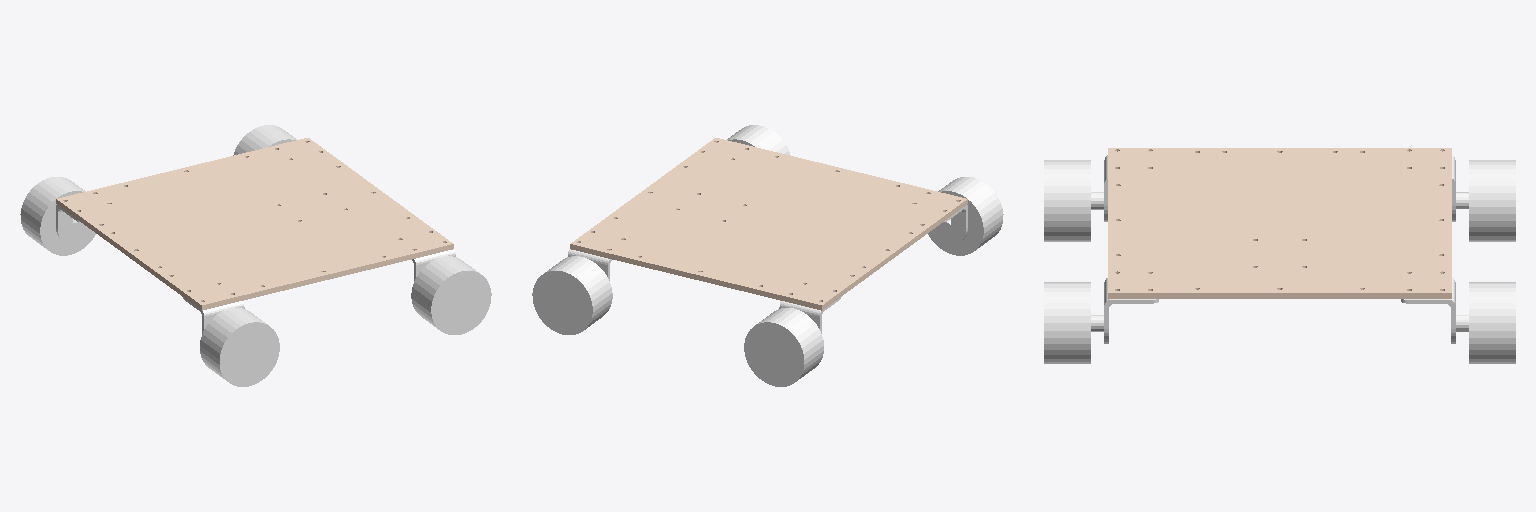
robot.urdf — car_model:
<?xml version="1.0" encoding="utf-8"?>
<!-- This URDF was automatically created by SolidWorks to URDF Exporter! Originally created by [author] ([email redacted]) 
     Commit Version: 1.6.0-4-g7f85cfe  Build Version: 1.6.7995.38578
     For more information, please see http://wiki.ros.org/sw_urdf_exporter -->
<robot
  name="car_model">
  <link name="base_footprint">
  </link>
  <link
    name="car_link">
    <inertial>
      <origin
        xyz="1.3878E-17 2.7756E-17 0.0025"
        rpy="0 0 0" />
      <mass
        value="0.31036" />
      <inertia
        ixx="0.0016104"
        ixy="1.4988E-19"
        ixz="8.5178E-21"
        iyy="0.0016081"
        iyz="1.348E-21"
        izz="0.0032173" />
    </inertial>
    <visual>
      <origin
        xyz="0 0 0"
        rpy="0 0 0" />
      <geometry>
        <mesh
          filename="package://car_model/meshes/car_link.STL" />
      </geometry>
      <material
        name="">
        <color
          rgba="1 0.9098 0.83137 1" />
      </material>
    </visual>
    <collision>
      <origin
        xyz="0 0 0"
        rpy="0 0 0" />
      <geometry>
        <mesh
          filename="package://car_model/meshes/car_link.STL" />
      </geometry>
    </collision>
  </link>
  <joint name="base_footprint" type="fixed">
    <parent link="base_footprint"/>
    <child link="car_link"/>
  </joint>
  <link
    name="LF_Hub_link">
    <inertial>
      <origin
        xyz="-1.0059E-05 0.0082366 -0.0071873"
        rpy="0 0 0" />
      <mass
        value="0.0084323" />
      <inertia
        ixx="2.5589E-06"
        ixy="-8.2589E-10"
        ixz="7.3689E-10"
        iyy="2.3651E-06"
        iyz="7.504E-07"
        izz="2.4214E-06" />
    </inertial>
    <visual>
      <origin
        xyz="0 0 0"
        rpy="0 0 0" />
      <geometry>
        <mesh
          filename="package://car_model/meshes/LF_Hub_link.STL" />
      </geometry>
      <material
        name="">
        <color
          rgba="1 1 1 1" />
      </material>
    </visual>
    <collision>
      <origin
        xyz="0 0 0"
        rpy="0 0 0" />
      <geometry>
        <mesh
          filename="package://car_model/meshes/LF_Hub_link.STL" />
      </geometry>
    </collision>
  </link>
  <joint
    name="car2LF_Hub"
    type="fixed">
    <origin
      xyz="0.106 0.1075 -0.003"
      rpy="0 0 0" />
    <parent
      link="car_link" />
    <child
      link="LF_Hub_link" />
    <axis
      xyz="0 0 0" />
  </joint>
  <link
    name="LF_Wheel_link">
    <inertial>
      <origin
        xyz="0 0.0291348289900235 6.93889390390723E-18"
        rpy="0 0 0" />
      <mass
        value="0.0976667159877332" />
      <inertia
        ixx="3.17417948796353E-05"
        ixy="-9.14387225326459E-22"
        ixz="-2.80586556949772E-22"
        iyy="4.32896914021948E-05"
        iyz="-1.16131060268526E-21"
        izz="3.17417948796353E-05" />
    </inertial>
    <visual>
      <origin
        xyz="0 0 0"
        rpy="0 0 0" />
      <geometry>
        <mesh
          filename="package://car_model/meshes/LF_Wheel_link.STL" />
      </geometry>
      <material
        name="">
        <color
          rgba="1 1 1 1" />
      </material>
    </visual>
    <collision>
      <origin
        xyz="0 0 0"
        rpy="0 0 0" />
      <geometry>
        <mesh
          filename="package://car_model/meshes/LF_Wheel_link.STL" />
      </geometry>
    </collision>
  </link>
  <joint
    name="LF_Hub2LF_Wheel"
    type="continuous">
    <origin
      xyz="0 0.0169999999999998 -0.025"
      rpy="0 0 0" />
    <parent
      link="LF_Hub_link" />
    <child
      link="LF_Wheel_link" />
    <axis
      xyz="0 1 0" />
  </joint>
  <link
    name="RF_Hub_link">
    <inertial>
      <origin
        xyz="1.0059E-05 -0.0082366 -0.0071873"
        rpy="0 0 0" />
      <mass
        value="0.0084323" />
      <inertia
        ixx="2.5589E-06"
        ixy="-8.2589E-10"
        ixz="-7.3689E-10"
        iyy="2.3651E-06"
        iyz="-7.504E-07"
        izz="2.4214E-06" />
    </inertial>
    <visual>
      <origin
        xyz="0 0 0"
        rpy="0 0 0" />
      <geometry>
        <mesh
          filename="package://car_model/meshes/RF_Hub_link.STL" />
      </geometry>
      <material
        name="">
        <color
          rgba="1 1 1 1" />
      </material>
    </visual>
    <collision>
      <origin
        xyz="0 0 0"
        rpy="0 0 0" />
      <geometry>
        <mesh
          filename="package://car_model/meshes/RF_Hub_link.STL" />
      </geometry>
    </collision>
  </link>
  <joint
    name="car2RF_Hub"
    type="fixed">
    <origin
      xyz="0.106 -0.1075 -0.003"
      rpy="0 0 0" />
    <parent
      link="car_link" />
    <child
      link="RF_Hub_link" />
    <axis
      xyz="0 0 0" />
  </joint>
  <link
    name="RF_Wheel_link">
    <inertial>
      <origin
        xyz="0 -0.0291348289900234 0"
        rpy="0 0 0" />
      <mass
        value="0.0976667159877333" />
      <inertia
        ixx="3.17417948796353E-05"
        ixy="-1.32724821511672E-21"
        ixz="3.55254772210564E-21"
        iyy="4.32896914021949E-05"
        iyz="-2.48749113526877E-21"
        izz="3.17417948796353E-05" />
    </inertial>
    <visual>
      <origin
        xyz="0 0 0"
        rpy="0 0 0" />
      <geometry>
        <mesh
          filename="package://car_model/meshes/RF_Wheel_link.STL" />
      </geometry>
      <material
        name="">
        <color
          rgba="1 1 1 1" />
      </material>
    </visual>
    <collision>
      <origin
        xyz="0 0 0"
        rpy="0 0 0" />
      <geometry>
        <mesh
          filename="package://car_model/meshes/RF_Wheel_link.STL" />
      </geometry>
    </collision>
  </link>
  <joint
    name="RF_Hub2RF_Wheel"
    type="continuous">
    <origin
      xyz="0 -0.017 -0.025"
      rpy="0 0 0" />
    <parent
      link="RF_Hub_link" />
    <child
      link="RF_Wheel_link" />
    <axis
      xyz="0 -1 0" />
  </joint>
  <link
    name="LB_Hub_link">
    <inertial>
      <origin
        xyz="-1.00592687205803E-05 0.00823663928394838 -0.0071873491149865"
        rpy="0 0 0" />
      <mass
        value="0.00843232286599733" />
      <inertia
        ixx="2.55893809066051E-06"
        ixy="-8.25890970017699E-10"
        ixz="7.36887028287895E-10"
        iyy="2.36512355178143E-06"
        iyz="7.50399636930142E-07"
        izz="2.42141028264682E-06" />
    </inertial>
    <visual>
      <origin
        xyz="0 0 0"
        rpy="0 0 0" />
      <geometry>
        <mesh
          filename="package://car_model/meshes/LB_Hub_link.STL" />
      </geometry>
      <material
        name="">
        <color
          rgba="1 1 1 1" />
      </material>
    </visual>
    <collision>
      <origin
        xyz="0 0 0"
        rpy="0 0 0" />
      <geometry>
        <mesh
          filename="package://car_model/meshes/LB_Hub_link.STL" />
      </geometry>
    </collision>
  </link>
  <joint
    name="car2LB_Hub"
    type="fixed">
    <origin
      xyz="-0.104 0.1075 -0.003"
      rpy="0 0 0" />
    <parent
      link="car_link" />
    <child
      link="LB_Hub_link" />
    <axis
      xyz="0 0 0" />
  </joint>
  <link
    name="LB_Wheel_link">
    <inertial>
      <origin
        xyz="-2.77555756156289E-17 0.0291348289900235 1.38777878078145E-17"
        rpy="0 0 0" />
      <mass
        value="0.0976667159877332" />
      <inertia
        ixx="3.17417948796353E-05"
        ixy="-3.80242814885347E-22"
        ixz="-2.27111915287599E-22"
        iyy="4.32896914021948E-05"
        iyz="2.27378507538525E-21"
        izz="3.17417948796353E-05" />
    </inertial>
    <visual>
      <origin
        xyz="0 0 0"
        rpy="0 0 0" />
      <geometry>
        <mesh
          filename="package://car_model/meshes/LB_Wheel_link.STL" />
      </geometry>
      <material
        name="">
        <color
          rgba="1 1 1 1" />
      </material>
    </visual>
    <collision>
      <origin
        xyz="0 0 0"
        rpy="0 0 0" />
      <geometry>
        <mesh
          filename="package://car_model/meshes/LB_Wheel_link.STL" />
      </geometry>
    </collision>
  </link>
  <joint
    name="LB_Hub2LB_Wheel"
    type="continuous">
    <origin
      xyz="0 0.0170000000000003 -0.0250000000000002"
      rpy="0 0 0" />
    <parent
      link="LB_Hub_link" />
    <child
      link="LB_Wheel_link" />
    <axis
      xyz="0 1 0" />
  </joint>
  <link
    name="RB_Hub_link">
    <inertial>
      <origin
        xyz="1.0059268720497E-05 -0.00823663928394833 -0.00718734911498652"
        rpy="0 0 0" />
      <mass
        value="0.00843232286599734" />
      <inertia
        ixx="2.55893809066052E-06"
        ixy="-8.25890970018213E-10"
        ixz="-7.36887028287664E-10"
        iyy="2.36512355178143E-06"
        iyz="-7.50399636930146E-07"
        izz="2.42141028264682E-06" />
    </inertial>
    <visual>
      <origin
        xyz="0 0 0"
        rpy="0 0 0" />
      <geometry>
        <mesh
          filename="package://car_model/meshes/RB_Hub_link.STL" />
      </geometry>
      <material
        name="">
        <color
          rgba="1 1 1 1" />
      </material>
    </visual>
    <collision>
      <origin
        xyz="0 0 0"
        rpy="0 0 0" />
      <geometry>
        <mesh
          filename="package://car_model/meshes/RB_Hub_link.STL" />
      </geometry>
    </collision>
  </link>
  <joint
    name="car2RB_Hub"
    type="fixed">
    <origin
      xyz="-0.104 -0.1075 -0.003"
      rpy="0 0 0" />
    <parent
      link="car_link" />
    <child
      link="RB_Hub_link" />
    <axis
      xyz="0 0 0" />
  </joint>
  <link
    name="RB_Wheel_link">
    <inertial>
      <origin
        xyz="0 -0.0291348289900234 -3.46944695195361E-18"
        rpy="0 0 0" />
      <mass
        value="0.0976667159877333" />
      <inertia
        ixx="3.17417948796353E-05"
        ixy="-2.8982947791865E-21"
        ixz="-1.06512557810242E-21"
        iyy="4.32896914021948E-05"
        iyz="-5.79343119752682E-22"
        izz="3.17417948796353E-05" />
    </inertial>
    <visual>
      <origin
        xyz="0 0 0"
        rpy="0 0 0" />
      <geometry>
        <mesh
          filename="package://car_model/meshes/RB_Wheel_link.STL" />
      </geometry>
      <material
        name="">
        <color
          rgba="1 1 1 1" />
      </material>
    </visual>
    <collision>
      <origin
        xyz="0 0 0"
        rpy="0 0 0" />
      <geometry>
        <mesh
          filename="package://car_model/meshes/RB_Wheel_link.STL" />
      </geometry>
    </collision>
  </link>
  <joint
    name="RB_Hub2RB_Wheel"
    type="continuous">
    <origin
      xyz="0 -0.017 -0.025"
      rpy="0 0 0" />
    <parent
      link="RB_Hub_link" />
    <child
      link="RB_Wheel_link" />
    <axis
      xyz="0 -1 0" />
  </joint>
  <!-- <link
    name="Shim_link">
    <inertial>
      <origin
        xyz="0 0 0"
        rpy="0 0 0" />
      <mass
        value="0" />
      <inertia
        ixx="0"
        ixy="0"
        ixz="0"
        iyy="0"
        iyz="0"
        izz="0" />
    </inertial>
    <visual>
      <origin
        xyz="0 0 0"
        rpy="0 0 0" />
      <geometry>
        <mesh
          filename="package://car_model/meshes/Shim_link.STL" />
      </geometry>
      <material
        name="">
        <color
          rgba="1 1 1 1" />
      </material>
    </visual>
    <collision>
      <origin
        xyz="0 0 0"
        rpy="0 0 0" />
      <geometry>
        <mesh
          filename="package://car_model/meshes/Shim_link.STL" />
      </geometry>
    </collision>
  </link>
  <joint
    name="car2Shim"
    type="fixed">
    <origin
      xyz="0.056999 0 0.005"
      rpy="0 0 0" />
    <parent
      link="car_link" />
    <child
      link="Shim_link" />
    <axis
      xyz="0 0 0" />
  </joint> -->
  <!-- <link
    name="Lidar_link">
    <inertial>
      <origin
        xyz="-9.42063322728753E-05 -8.40265579690053E-05 -0.0166017099082987"
        rpy="0 0 0" />
      <mass
        value="0.0324074072544886" />
      <inertia
        ixx="1.07844929576609E-05"
        ixy="2.43580026216804E-09"
        ixz="-4.20827393221439E-09"
        iyy="1.0840997896253E-05"
        iyz="-1.61412034139863E-08"
        izz="1.96321691985343E-05" />
    </inertial>
    <visual>
      <origin
        xyz="0 0 0"
        rpy="0 0 0" />
      <geometry>
        <mesh
          filename="package://car_model/meshes/Lidar_link.STL" />
      </geometry>
      <material
        name="">
        <color
          rgba="0.4 0.4 0.4 1" />
      </material>
    </visual>
    <collision>
      <origin
        xyz="0 0 0"
        rpy="0 0 0" />
      <geometry>
        <mesh
          filename="package://car_model/meshes/Lidar_link.STL" />
      </geometry>
    </collision>
  </link>
  <joint
    name="Shim2Lidar"
    type="fixed">
    <origin
      xyz="0 0 0.0365963779573637"
      rpy="0 0 0" />
    <parent
      link="Shim_link" />
    <child
      link="Lidar_link" />
    <axis
      xyz="0 0 0" />
  </joint> -->
  <link
    name="Lidar_link">
    <inertial>
      <origin
        xyz="-9.42063322728753E-05 -8.40265579690053E-05 -0.0166017099082987"
        rpy="0 0 0" />
      <mass
        value="0.0324074072544886" />
      <inertia
        ixx="1.07844929576609E-05"
        ixy="2.43580026216804E-09"
        ixz="-4.20827393221439E-09"
        iyy="1.0840997896253E-05"
        iyz="-1.61412034139863E-08"
        izz="1.96321691985343E-05" />
    </inertial>
    <visual>
      <origin
        xyz="0 0 0"
        rpy="0 0 0" />
      <geometry>
        <mesh
          filename="package://car_model/meshes/Lidar_link.STL" />
      </geometry>
      <material
        name="">
        <color
          rgba="0.4 0.4 0.4 1" />
      </material>
    </visual>
    <collision>
      <origin
        xyz="0 0 0"
        rpy="0 0 0" />
      <geometry>
        <mesh
          filename="package://car_model/meshes/Lidar_link.STL" />
      </geometry>
    </collision>
  </link>
  <joint
    name="car2Lidar"
    type="fixed">
    <origin
      xyz="-0.025 0 0.13035"
      rpy="0 0 0" />
    <parent
      link="car_link" />
    <child
      link="Lidar_link" />
    <axis
      xyz="0 0 0" />
  </joint>
</robot>

--- Render facts (derived) ---
3 views of the same robot in one strip: view 1: azimuth 30°, elevation 25°; view 2: azimuth 150°, elevation 25°; view 3: azimuth 270°, elevation 25° (orthographic).
Model car_model with 11 links and 10 joints (4 continuous, 6 fixed), rooted at base_footprint, posed every joint at zero.
Visible links, largest first — view 1: car_link, RB_Wheel_link, RF_Wheel_link, LB_Wheel_link, LF_Wheel_link, LB_Hub_link; view 2: car_link, LB_Wheel_link, LF_Wheel_link, RB_Wheel_link, RF_Wheel_link, RB_Hub_link; view 3: car_link, RB_Wheel_link, LF_Wheel_link, RF_Wheel_link, LB_Wheel_link, LF_Hub_link, RF_Hub_link.
Boxes of the visible links, x1,y1,x2,y2 form: car_link: [56, 138, 453, 310]; RB_Wheel_link: [200, 308, 279, 386]; RF_Wheel_link: [411, 256, 491, 334]; LB_Wheel_link: [20, 177, 95, 255]; LF_Wheel_link: [233, 125, 296, 155]; LB_Hub_link: [56, 205, 93, 244]; car_link: [570, 138, 967, 310]; LB_Wheel_link: [744, 308, 823, 386]; LF_Wheel_link: [532, 256, 612, 334]; RB_Wheel_link: [928, 177, 1003, 255]; RF_Wheel_link: [727, 125, 790, 155]; RB_Hub_link: [930, 205, 967, 244]; car_link: [1108, 148, 1451, 298]; RB_Wheel_link: [1044, 160, 1103, 241]; LF_Wheel_link: [1456, 282, 1515, 363]; RF_Wheel_link: [1044, 282, 1103, 363]; LB_Wheel_link: [1456, 160, 1515, 241]; LF_Hub_link: [1401, 278, 1455, 343]; RF_Hub_link: [1104, 278, 1158, 343].
Bounding box of the posed robot: 0.2698 × 0.342 × 0.0629 m (x, y, z).
Meshes: 10 distinct files referenced, 9 mesh visuals loaded (9 binary STL); not drawn: 1 (reference not matched to a file when rendering).
